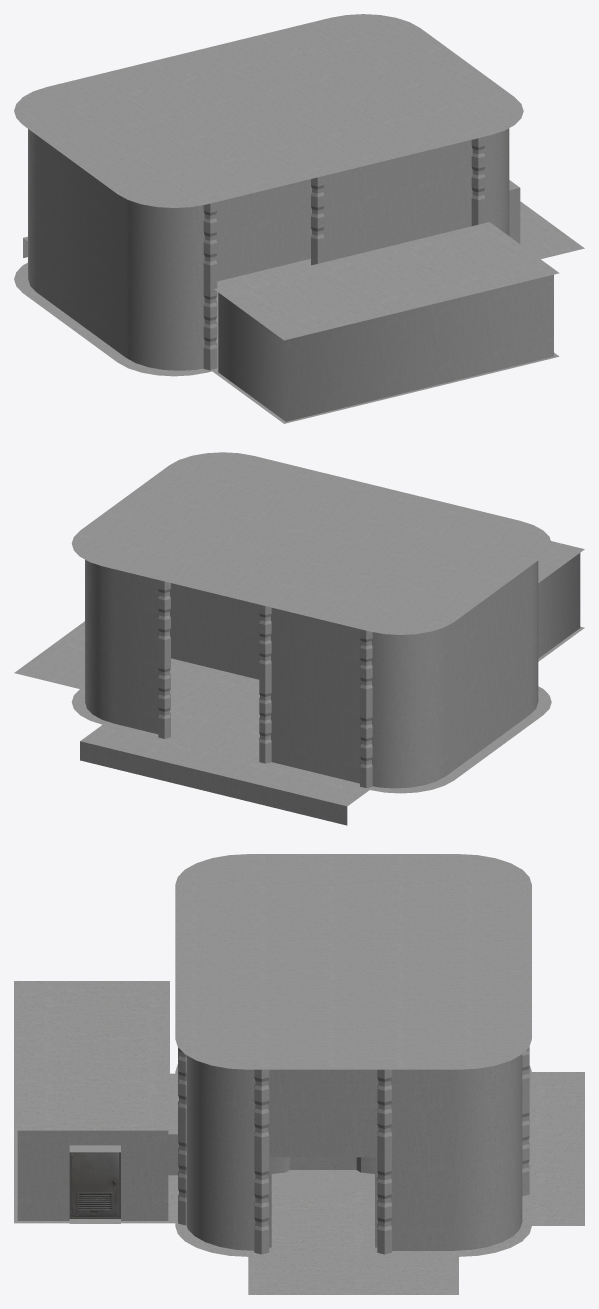
The model's file is Env_First_Room.FBX.
3 views of the same model, one above another, from view 1: azimuth 30°, elevation 25°; view 2: azimuth 150°, elevation 25°; view 3: azimuth 270°, elevation 25° (orthographic). The views are drawn at different scales.
Visible parts, largest first — view 1: Env_First_Room_mesh; view 2: Env_First_Room_mesh; view 3: Env_First_Room_mesh.
Part boxes in pixels (x1,y1,x2,y2): Env_First_Room_mesh: (14, 14, 584, 423); Env_First_Room_mesh: (14, 452, 584, 825); Env_First_Room_mesh: (14, 854, 584, 1294).
Size of what is drawn, in the model's own units: 1744 by 673 by 1659.
Materials: 5 (4 with a texture image).
